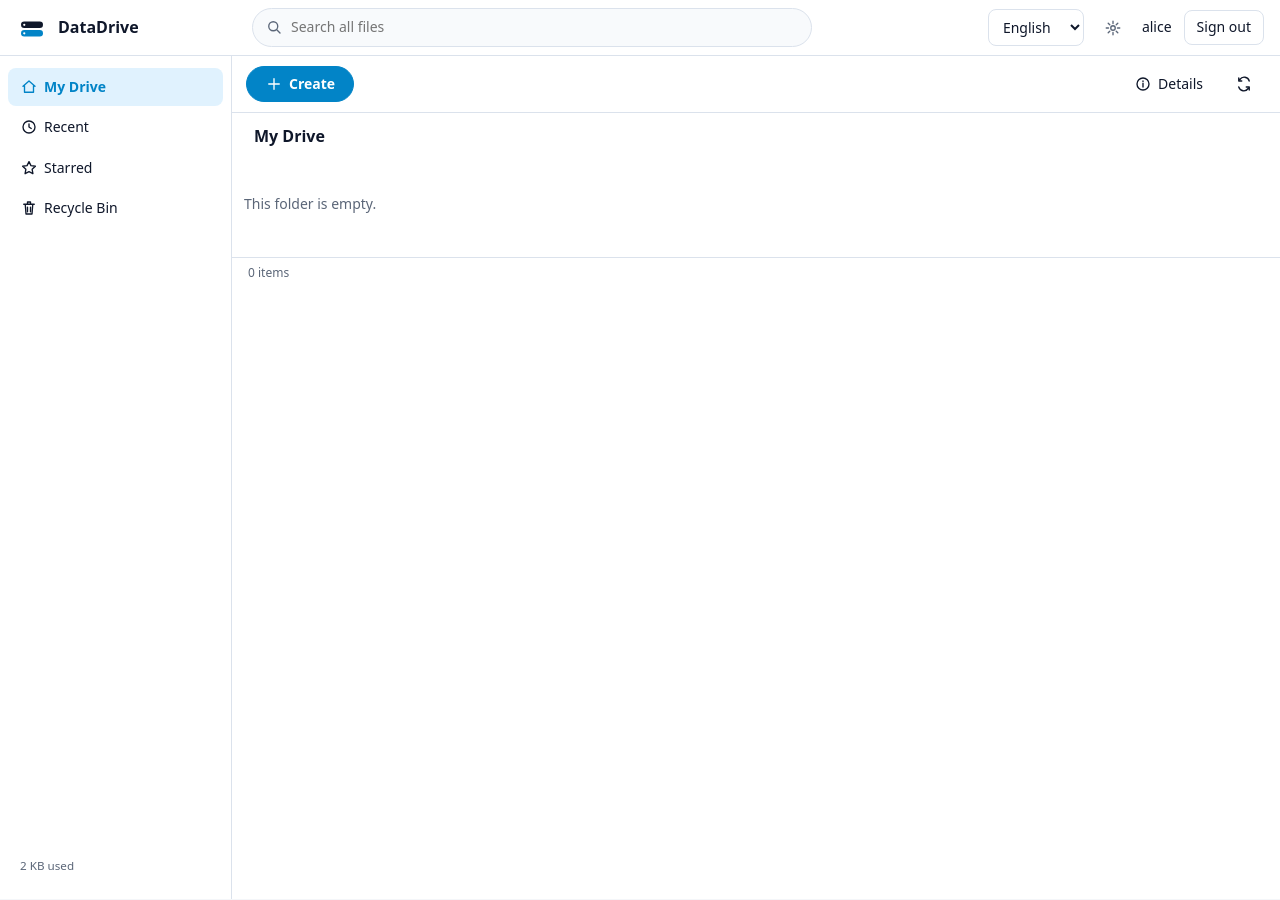
Test: administration › opens from the gear, shows the overview and returns to the files
Check: the element named "Actions" is shown, box [232,56,1279,113]
What coordinates should you click on to do the following:
click the button named "Administration"
I would click on:
 (1113, 28)
Its box is [1096,14,1130,40].
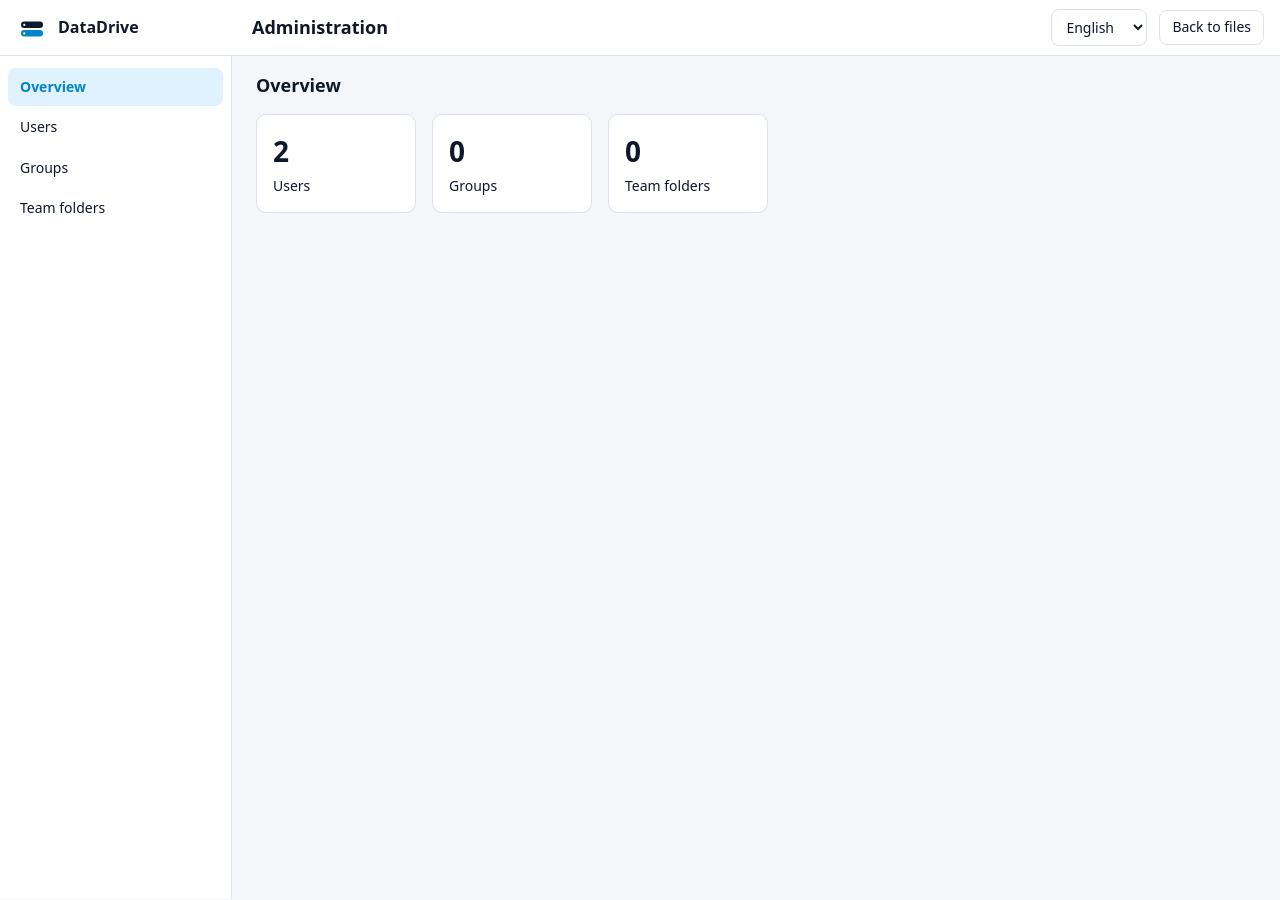
Check: the text "Users" is shown, box [273,176,310,195]
What coordinates should you click on to do the following:
click the button "Back to files"
I would click on:
 (1212, 27)
Its box is [1159,10,1264,45].
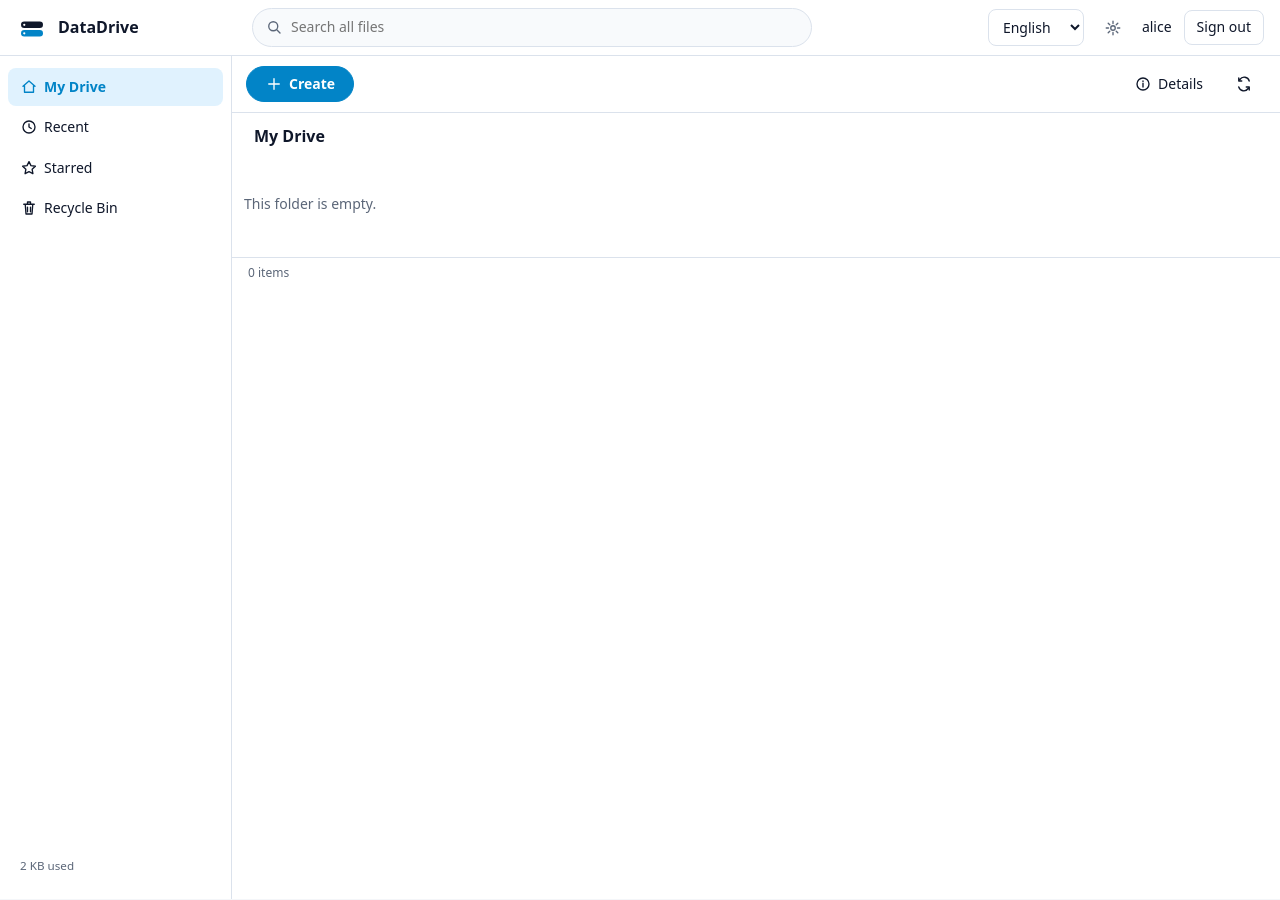
Check: the element named "Actions" is shown, box [232,56,1279,113]
